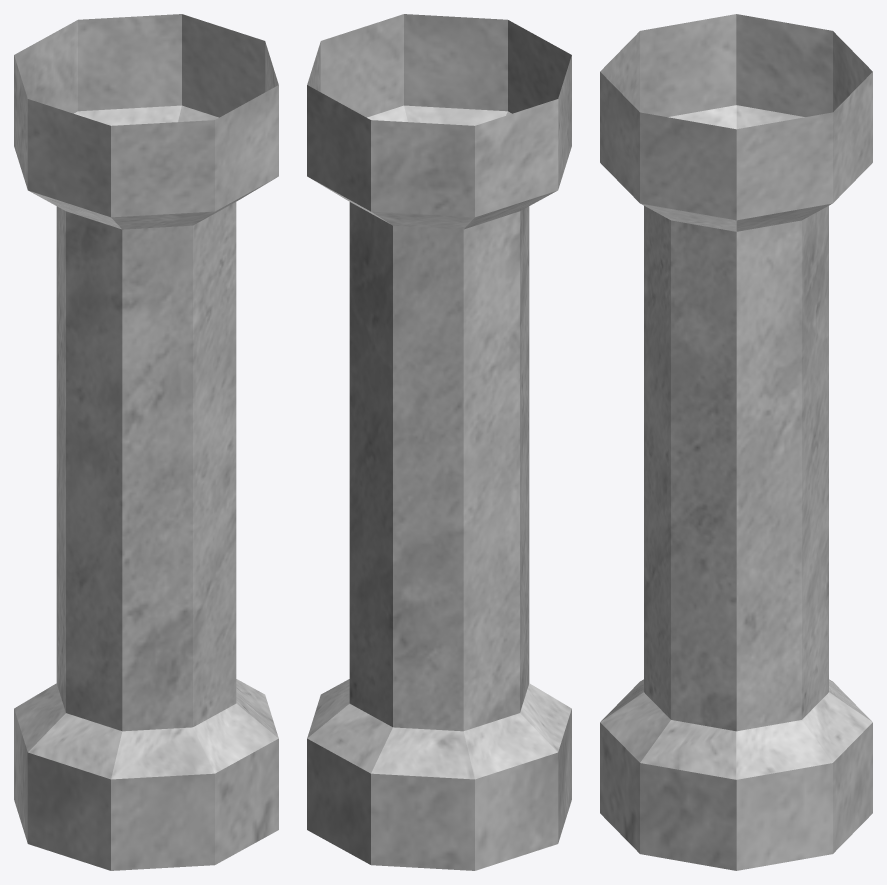
File: ColumnMarble.fbx
The picture shows the model from 3 angles, left to right: view 1: azimuth 30°, elevation 25°; view 2: azimuth 150°, elevation 25°; view 3: azimuth 270°, elevation 25°; orthographic projection.
Parts seen in each view (by area): view 1: ColumnMarble; view 2: ColumnMarble; view 3: ColumnMarble.
Part boxes in pixels (left/top/right/bottom): ColumnMarble: left=14, top=14, right=278, bottom=870; ColumnMarble: left=307, top=14, right=571, bottom=870; ColumnMarble: left=600, top=14, right=872, bottom=870.
Size of the model in its own units: 100 by 300 by 100.
Materials: 1 (1 with a texture image).
